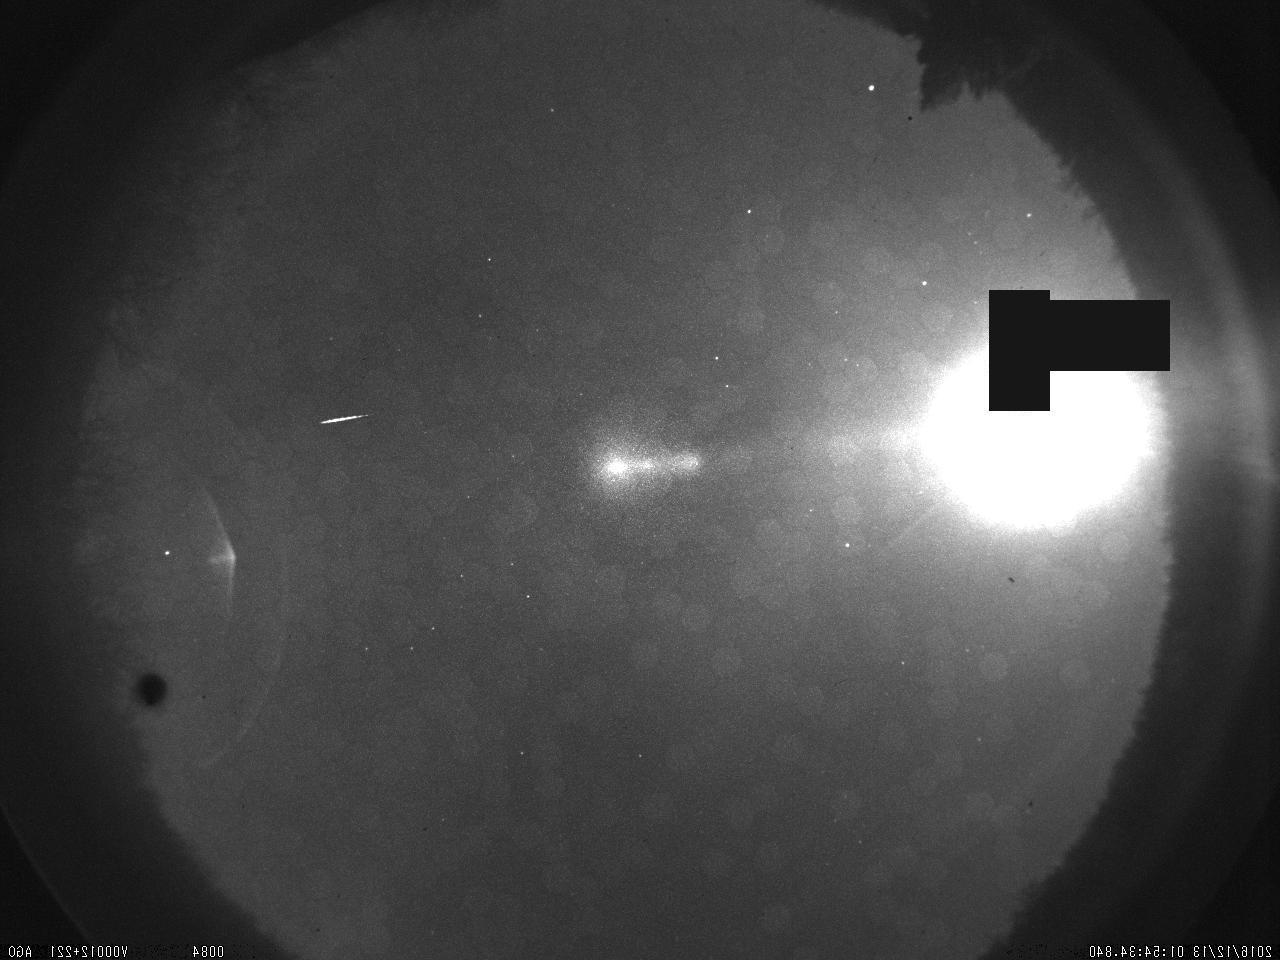meteor: (313, 400, 383, 434)
